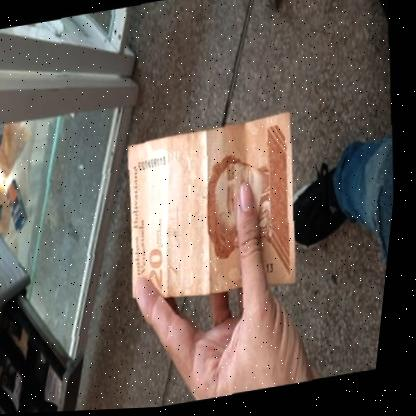twenty-front-vef: (117, 113, 314, 312)
